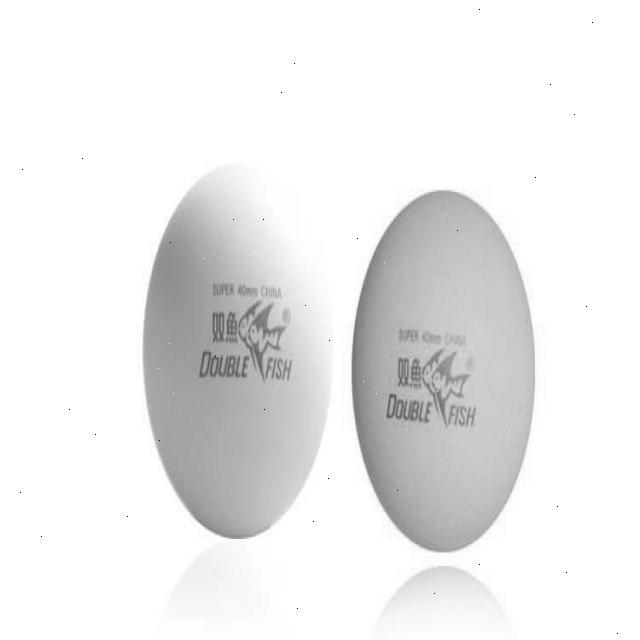ping-pong-ball: (139, 153, 328, 532), (349, 178, 536, 556)
